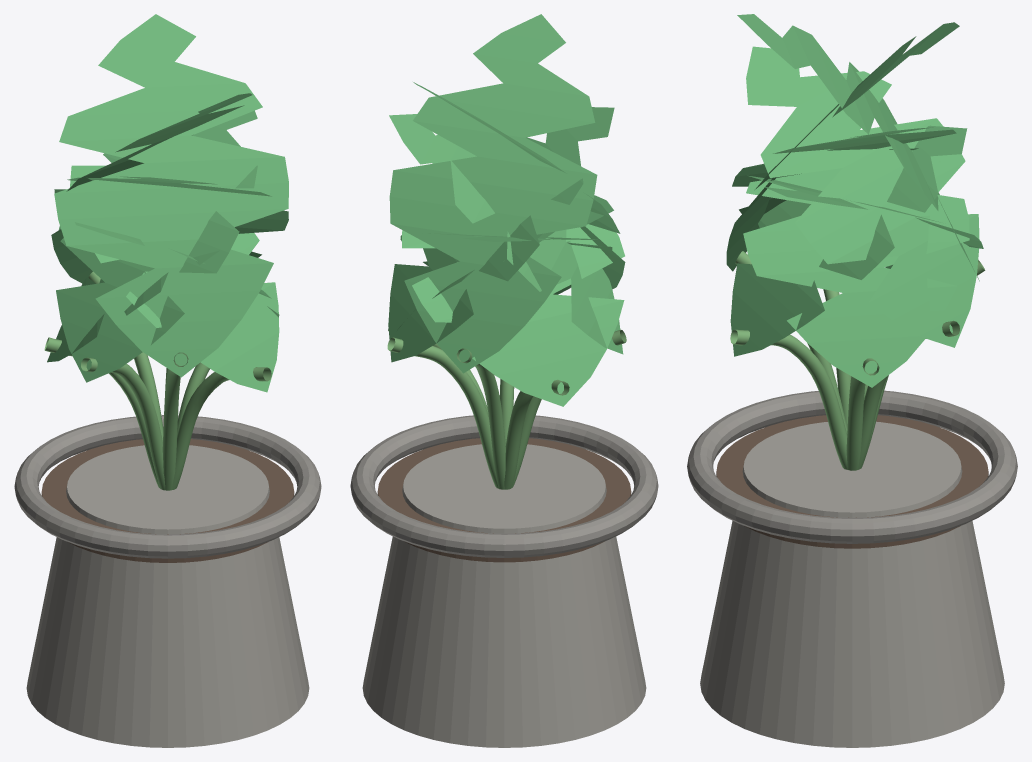
Rendered from deskPlant.glb.
3 views of the same model, side by side, from view 1: azimuth 30°, elevation 25°; view 2: azimuth 150°, elevation 25°; view 3: azimuth 270°, elevation 25° (orthographic). The views are drawn at different scales.
Visible parts, largest first — view 1: PlantPot, Leaf05, PlantRim, Leaf04, Leaf06, PlantSoil, Leaf02, Stem04, Leaf01, Stem06, Stem05, Leaf03 (+3 smaller); view 2: PlantPot, Leaf02, PlantRim, Leaf03, Leaf01, Leaf04, PlantSoil, Stem01, Leaf05, Stem02, Stem03, Stem04 (+2 smaller); view 3: PlantPot, Leaf01, PlantRim, Leaf00, Leaf06, PlantSoil, Leaf02, Leaf05, Leaf04, Stem06, Leaf03, Stem00 (+3 smaller).
Boxes of the visible parts, x1,y1,x2,y2 form: PlantPot: (26,445,309,747); Leaf05: (54,14,288,377); PlantRim: (14,415,321,558); Leaf04: (56,110,257,382); Leaf06: (70,165,279,392); PlantSoil: (41,439,294,562); Leaf02: (51,93,252,283); Stem04: (81,357,165,490); Leaf01: (54,176,288,257); Stem06: (172,367,271,489); Stem05: (162,352,188,490); Leaf03: (47,217,263,362); PlantPot: (362,444,646,747); Leaf02: (389,14,597,373); PlantRim: (350,415,658,557); Leaf03: (402,160,624,406); Leaf01: (388,107,614,362); Leaf04: (389,114,623,354); PlantSoil: (377,438,631,562); Stem01: (387,337,498,488); Leaf05: (413,82,625,289); Stem02: (456,348,505,489); Stem03: (504,379,569,489); Stem04: (512,329,626,487); PlantPot: (700,421,1004,747); Leaf01: (746,46,979,347); PlantRim: (687,390,1017,543); Leaf00: (743,160,969,387); Leaf06: (730,125,967,356); PlantSoil: (716,415,988,548); Leaf02: (737,14,979,281); Leaf05: (726,22,959,271); Leaf04: (732,127,956,228); Stem06: (730,329,847,469); Leaf03: (749,176,983,268); Stem00: (846,358,879,470).
Bounding box in the file's own units: 0.304 × 0.6866 × 0.304.
